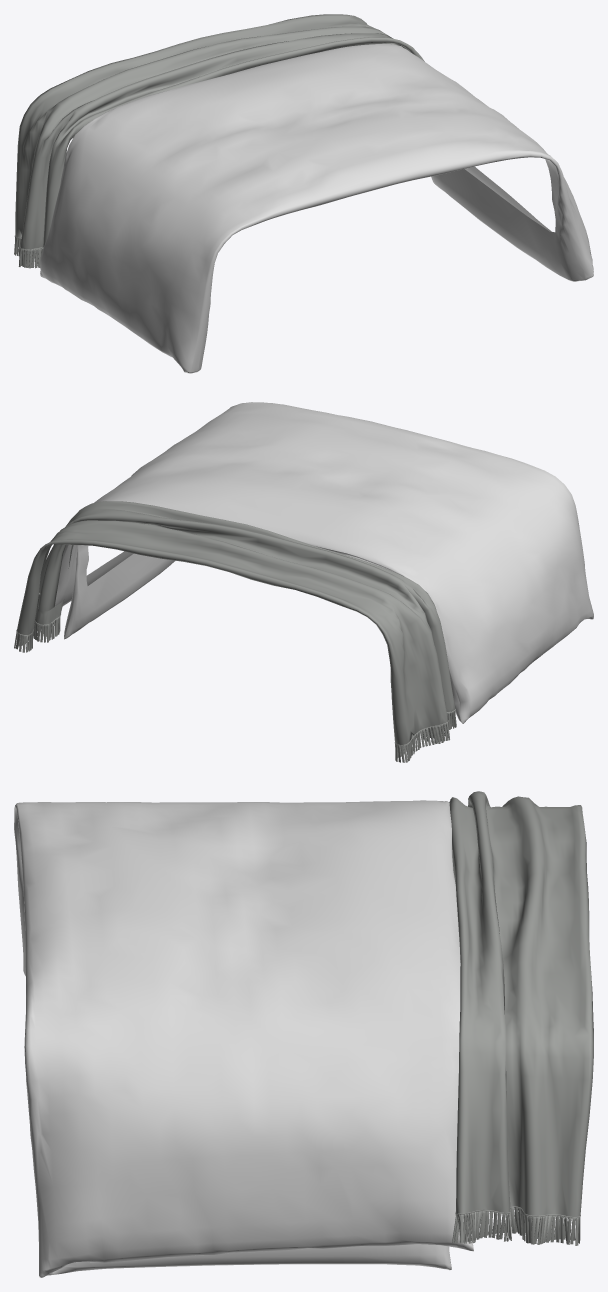
The model's file is Bedding04.glb.
3 renders of one model, top to bottom at view 1: azimuth 30°, elevation 25°; view 2: azimuth 150°, elevation 25°; view 3: azimuth 270°, elevation 25°, orthographic. The views are drawn at different scales.
Parts seen in each view (by area): view 1: Plane169_StaticMeshComponent0, default2_StaticMeshComponent0; view 2: Plane169_StaticMeshComponent0, default2_StaticMeshComponent0; view 3: Plane169_StaticMeshComponent0, default2_StaticMeshComponent0.
Boxes of the visible parts, x1,y1,x2,y2 form: Plane169_StaticMeshComponent0: (40, 43, 593, 373); default2_StaticMeshComponent0: (14, 14, 424, 268); Plane169_StaticMeshComponent0: (55, 402, 593, 723); default2_StaticMeshComponent0: (14, 501, 456, 762); Plane169_StaticMeshComponent0: (14, 800, 473, 1277); default2_StaticMeshComponent0: (449, 791, 593, 1245).
Size of the model in its own units: 1.48 by 0.5677 by 1.14.
Materials: 2 (1 with a texture image).
